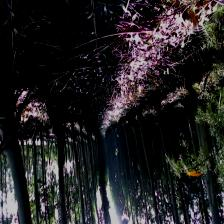trunk: (184, 71, 222, 223), (0, 118, 31, 218), (155, 105, 179, 222), (137, 109, 157, 207), (70, 121, 86, 224), (55, 129, 68, 223)
